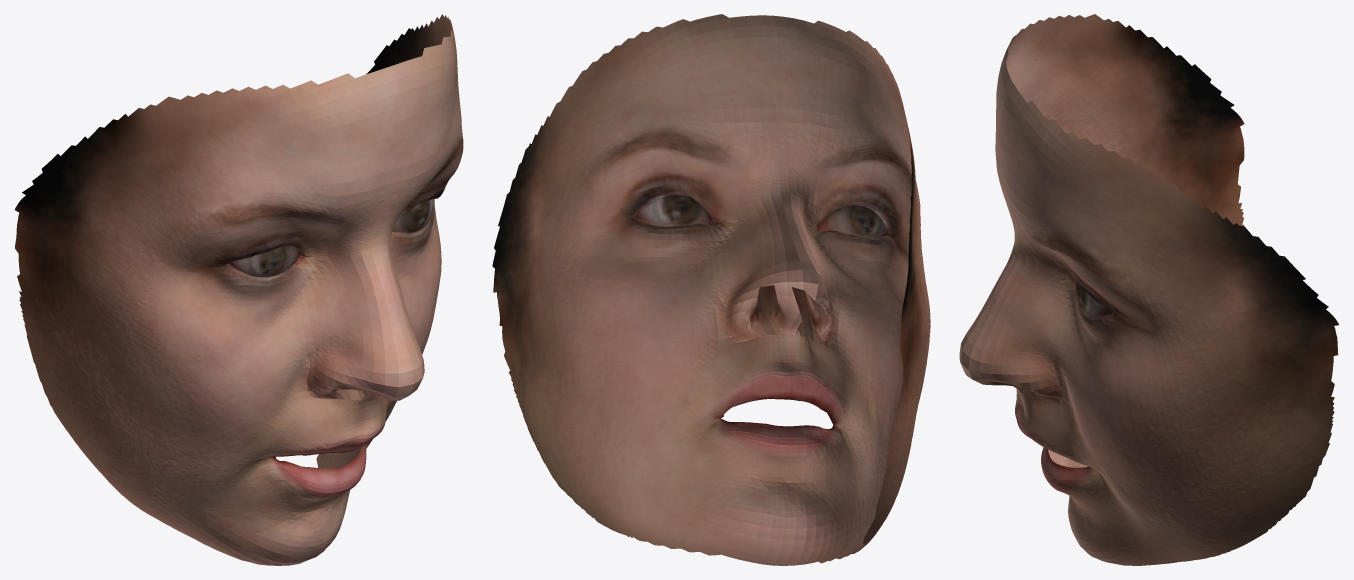
The model's file is frame_932_mesh.obj.
3 views of the same model, side by side, from view 1: azimuth 30°, elevation 25°; view 2: azimuth 150°, elevation 25°; view 3: azimuth 270°, elevation 25° (orthographic). The views are drawn at different scales.
Bounding box in the file's own units: 1.31 × 1.67 × 1.14.
